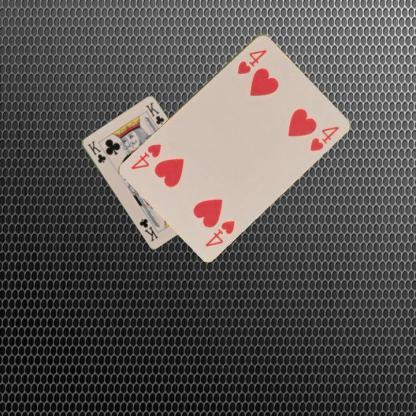4h: (202, 217, 236, 248), (235, 46, 268, 75)
Kc: (85, 138, 107, 164)
